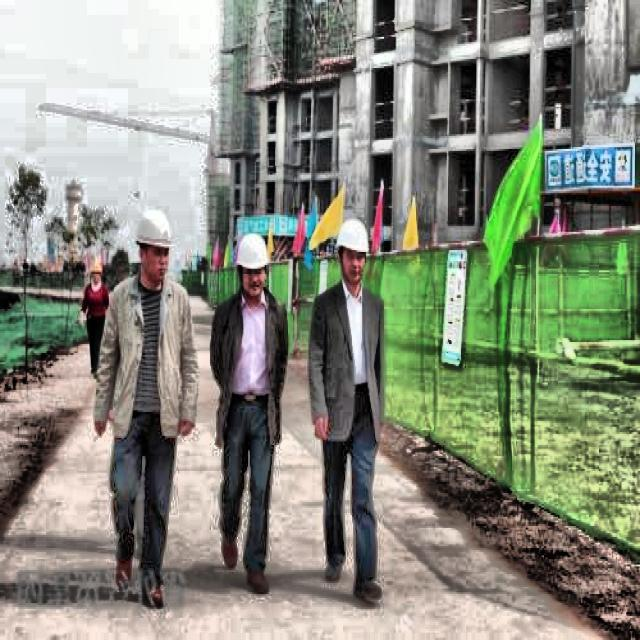helmet: (133, 198, 177, 290), (232, 228, 274, 298), (336, 210, 371, 292), (87, 254, 106, 287)
